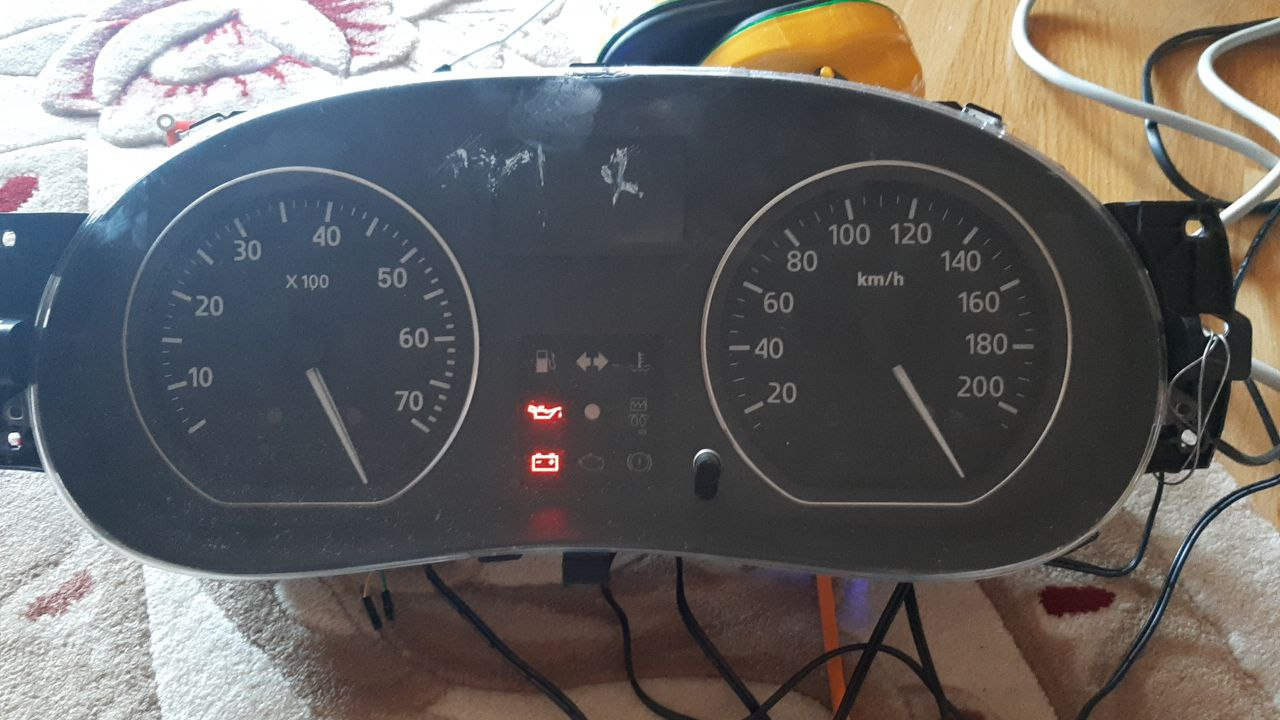accumulator: (526, 450, 564, 478)
oil: (517, 398, 566, 422)
